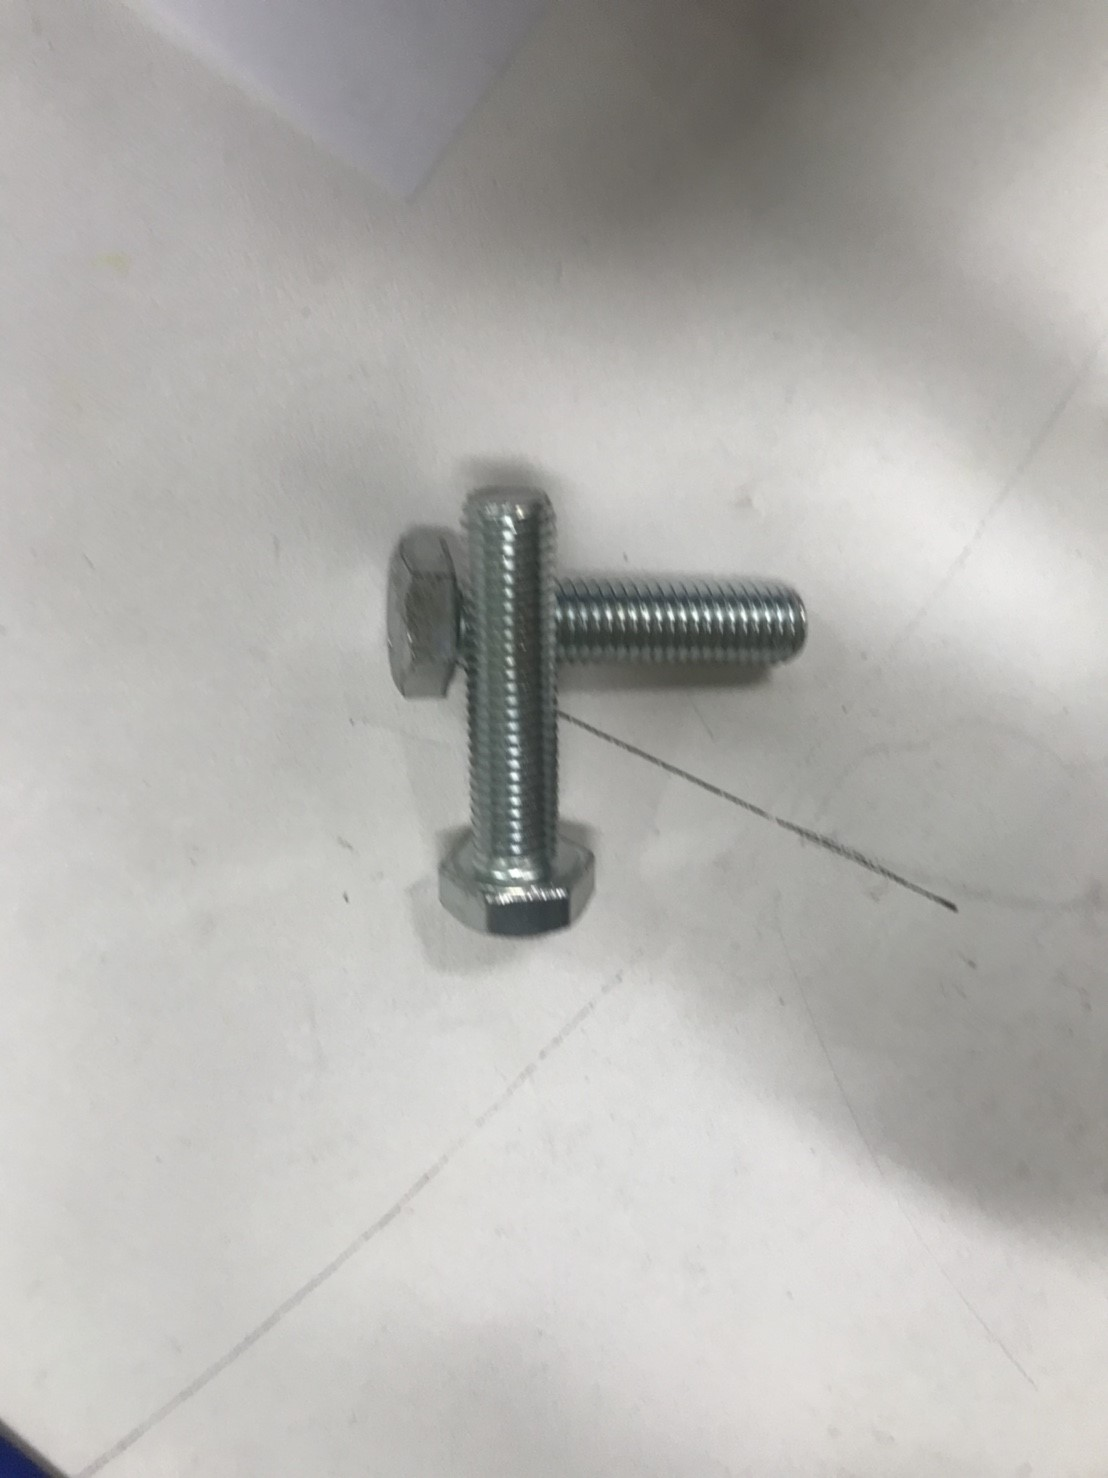screw: (368, 521, 811, 706), (436, 486, 598, 947)
